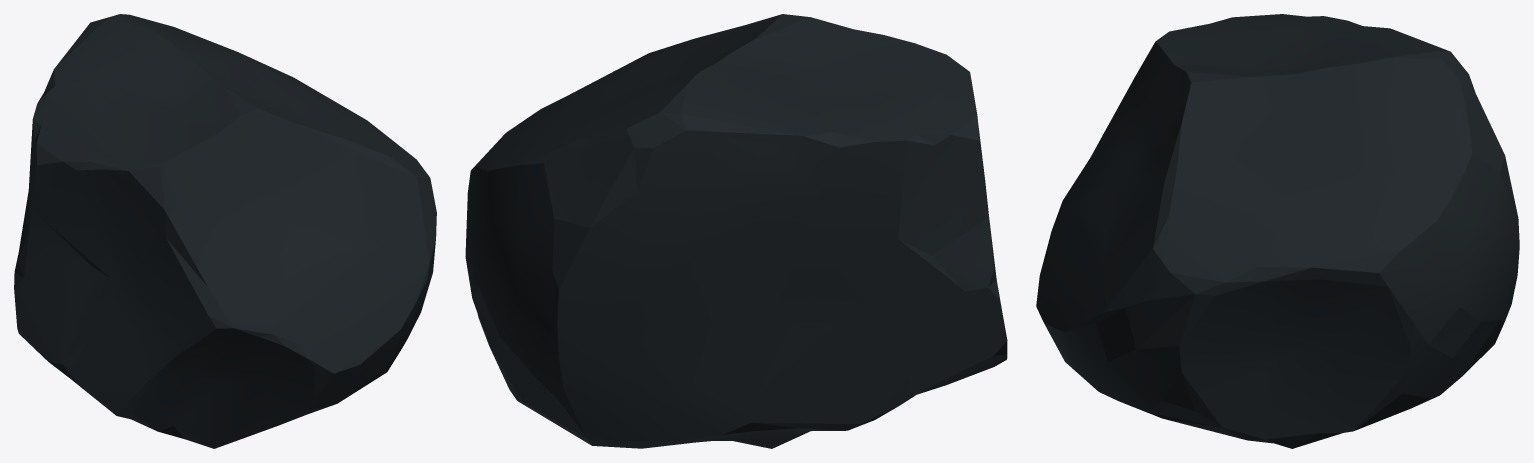
Rendered from Asteroid_m_15.FBX.
3 views of the same model, side by side, from view 1: azimuth 30°, elevation 25°; view 2: azimuth 150°, elevation 25°; view 3: azimuth 270°, elevation 25° (orthographic). The views are drawn at different scales.
Visible parts, largest first — view 1: Asteroid_m_15; view 2: Asteroid_m_15; view 3: Asteroid_m_15.
Boxes of the visible parts, <box> form: Asteroid_m_15: <box>14,14,436,448</box>; Asteroid_m_15: <box>465,14,1007,448</box>; Asteroid_m_15: <box>1036,14,1519,448</box>.
Size of the model in its own units: 930 by 765 by 956.
